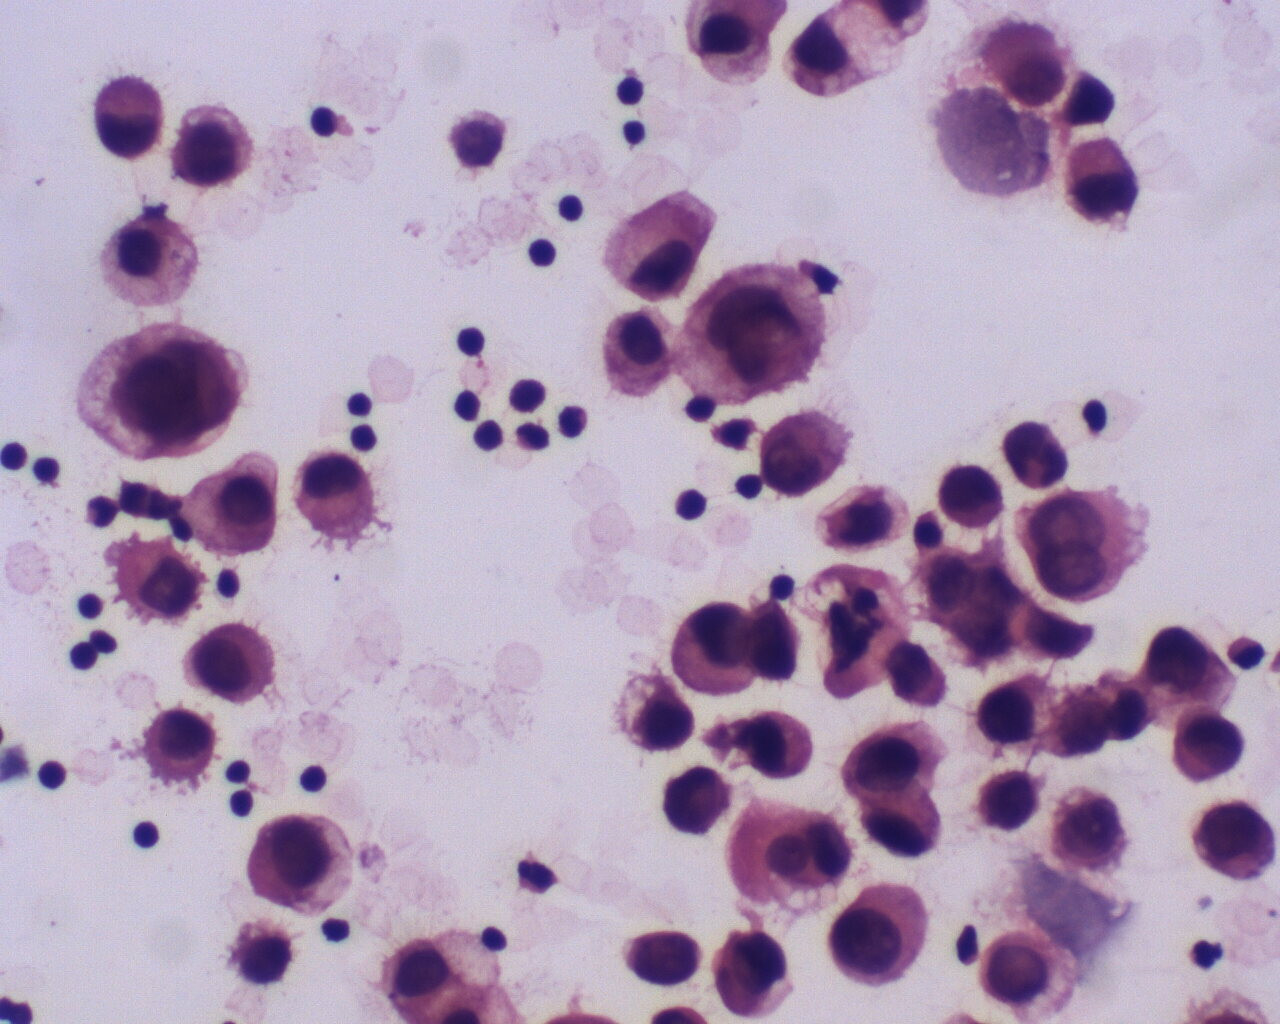ab: (76, 319, 250, 465), (683, 252, 834, 419), (1022, 481, 1153, 607), (675, 594, 802, 699), (241, 812, 360, 915), (831, 880, 938, 991), (97, 531, 217, 621), (980, 920, 1085, 1020), (1182, 793, 1280, 886), (761, 408, 856, 501), (841, 717, 950, 797), (713, 926, 800, 1019), (182, 620, 279, 700), (170, 101, 255, 192), (655, 754, 738, 842), (1053, 783, 1131, 872), (138, 709, 226, 786), (1171, 706, 1248, 791), (621, 922, 711, 988), (930, 463, 1010, 537), (981, 766, 1044, 835)
histo: (94, 218, 204, 308)
lymph: (449, 322, 495, 366), (466, 417, 511, 460), (608, 65, 650, 109), (34, 757, 76, 800), (523, 236, 567, 277), (672, 482, 712, 527), (306, 98, 345, 142), (131, 813, 167, 855), (29, 449, 66, 488)
meso: (285, 444, 380, 546), (594, 301, 682, 403)
